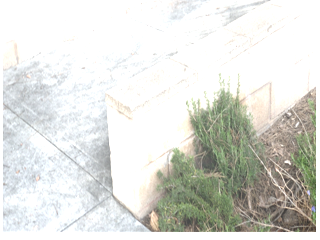Obstacle: (99, 3, 319, 222)
